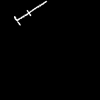double_crochet: (14, 1, 46, 24)
